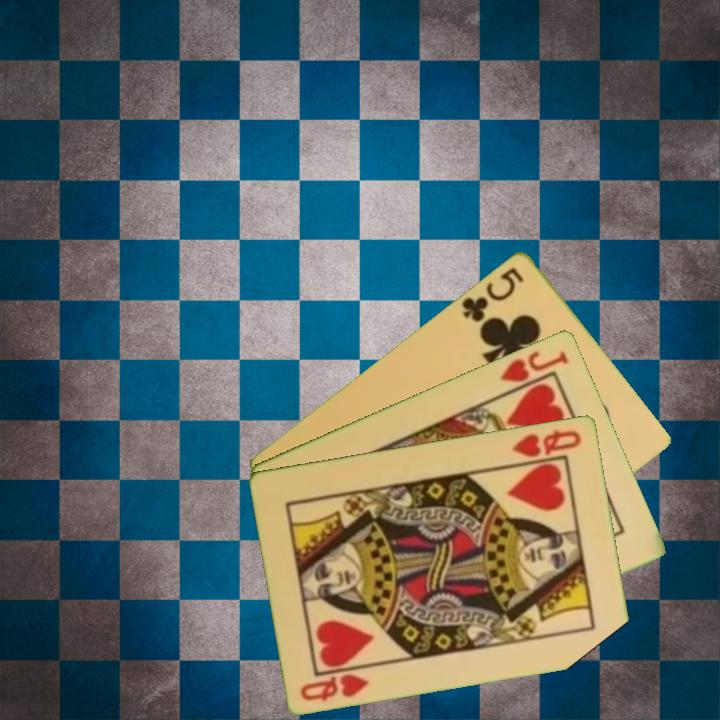5c: (457, 263, 527, 325)
Jh: (496, 347, 572, 398)
Qh: (297, 669, 373, 704), (509, 426, 584, 460)
